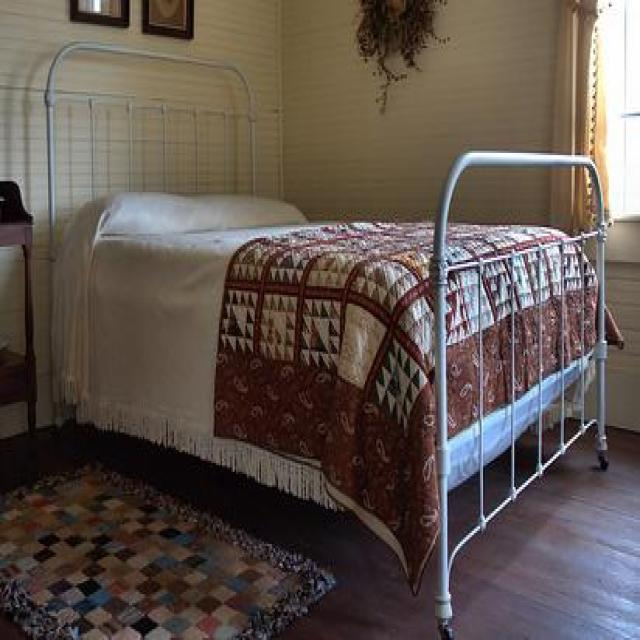bed: (42, 39, 614, 638)
